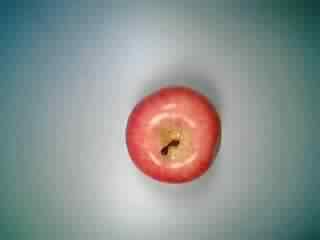apple: (122, 80, 227, 184)
